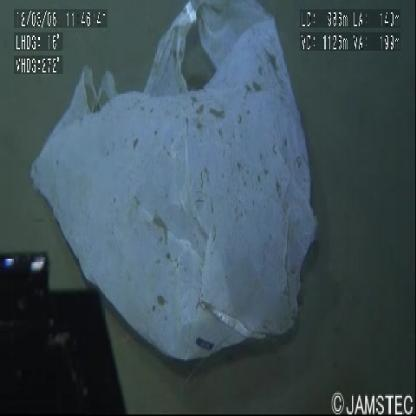Rov: (1, 239, 134, 416)
Rác: (27, 6, 321, 373)
